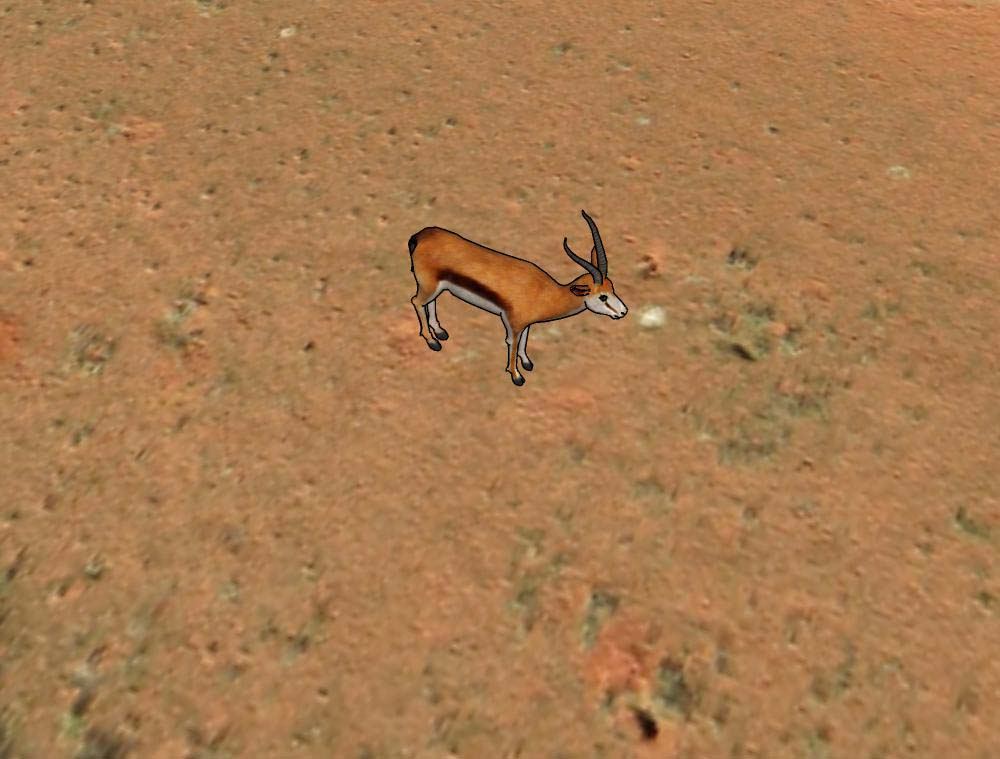springbok: (403, 195, 629, 388)
